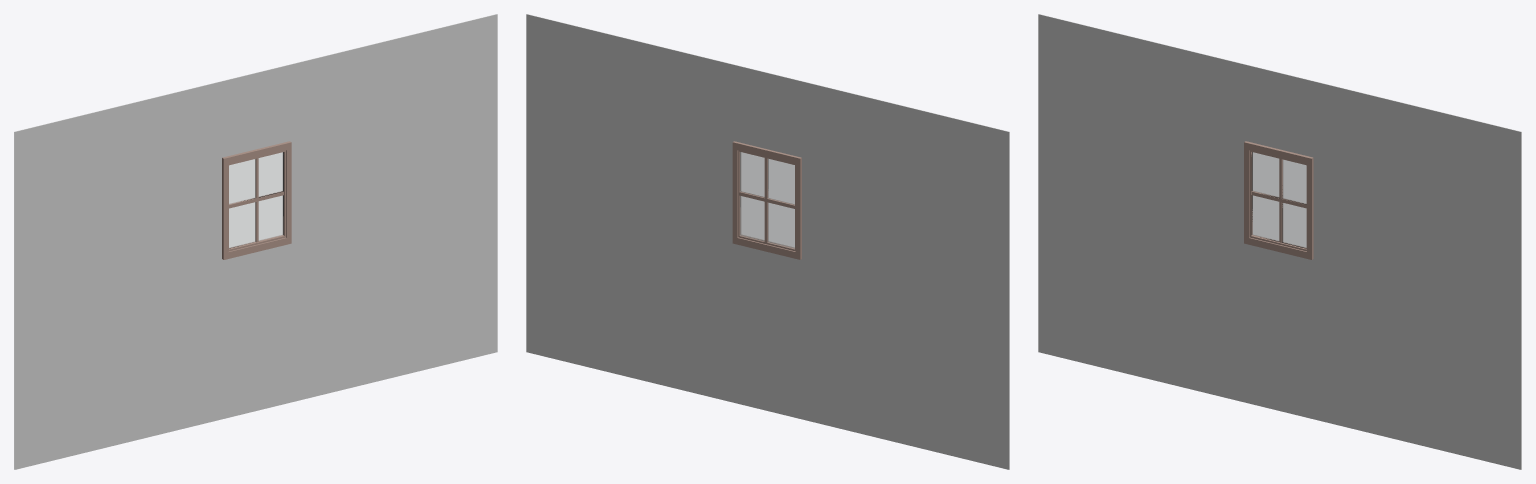
Rendered from WallWithWindow.fbx.
3 views of the same model, side by side, from view 1: azimuth 30°, elevation 25°; view 2: azimuth 150°, elevation 25°; view 3: azimuth 330°, elevation 25° (orthographic).
Visible parts, largest first — view 1: Cube, model, model.001; view 2: Cube, model, model.001; view 3: Cube, model, model.001.
Part boxes in pixels (x1,y1,x2,y2): Cube: (14, 14, 497, 469); model: (222, 141, 291, 259); model.001: (229, 152, 282, 247); Cube: (526, 14, 1009, 469); model: (732, 141, 801, 259); model.001: (740, 152, 794, 248); Cube: (1038, 14, 1521, 469); model: (1244, 141, 1313, 259); model.001: (1252, 152, 1306, 247).
Size of the model in its own units: 5987 by 4004 by 75.
